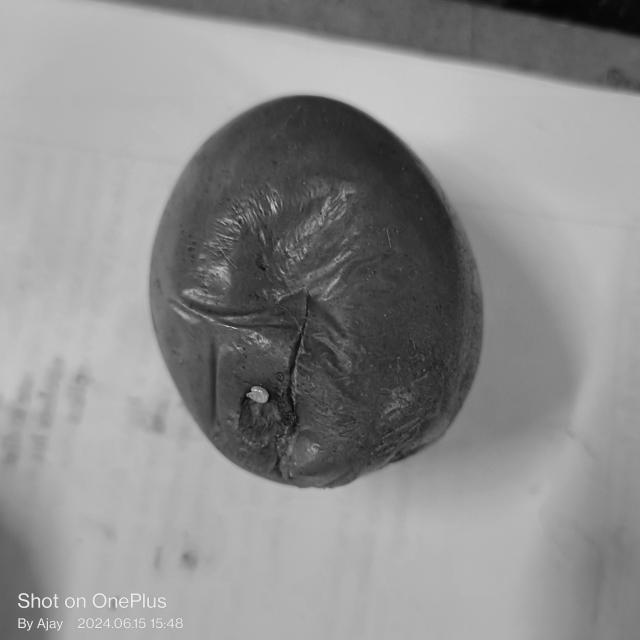Botrytis: (235, 376, 297, 449)
